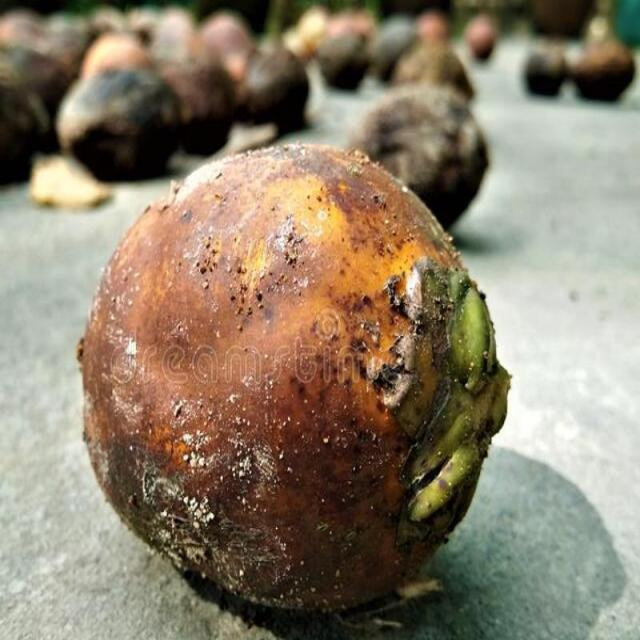damaged: (78, 146, 513, 617)
